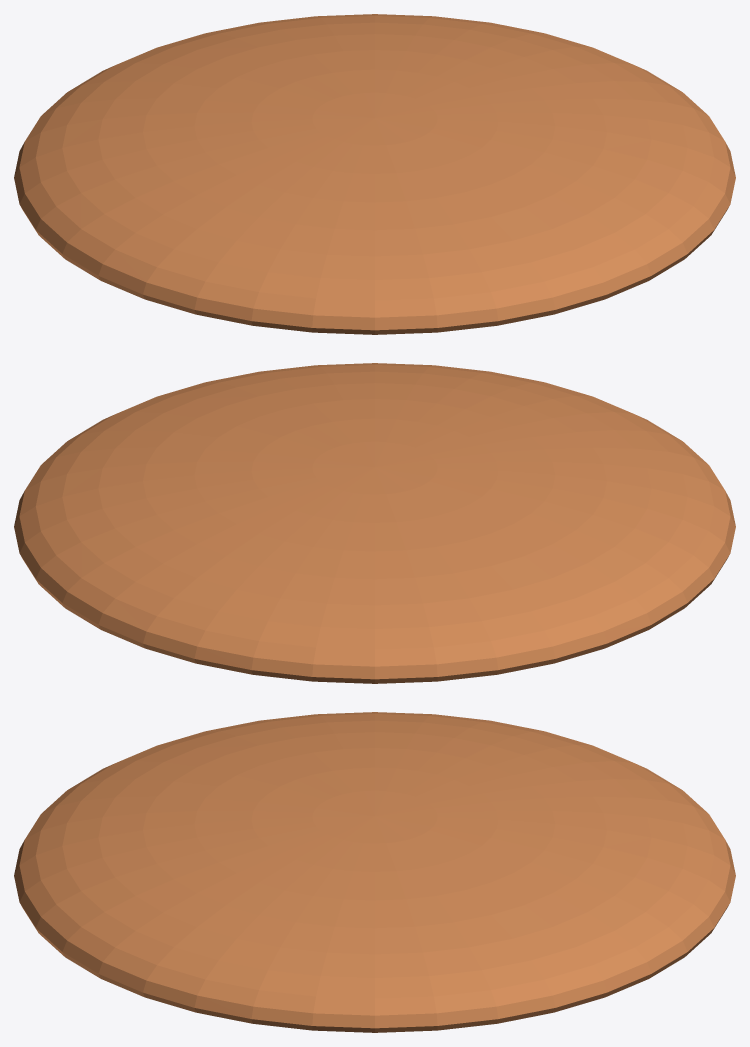
File: Frantic Kasi.glb
The picture shows the model from 3 angles, top to bottom: view 1: azimuth 30°, elevation 25°; view 2: azimuth 150°, elevation 25°; view 3: azimuth 270°, elevation 25°; orthographic projection.
Parts seen in each view (by area): view 1: Mesh_Mesh_head_geo.001_lambert2SG.001; view 2: Mesh_Mesh_head_geo.001_lambert2SG.001; view 3: Mesh_Mesh_head_geo.001_lambert2SG.001.
Part boxes in pixels (box(x1,y1,x2,y2)): Mesh_Mesh_head_geo.001_lambert2SG.001: box(14, 14, 735, 334); Mesh_Mesh_head_geo.001_lambert2SG.001: box(14, 363, 735, 683); Mesh_Mesh_head_geo.001_lambert2SG.001: box(14, 712, 735, 1032).
Size of the model in its own units: 80 by 8 by 80.
